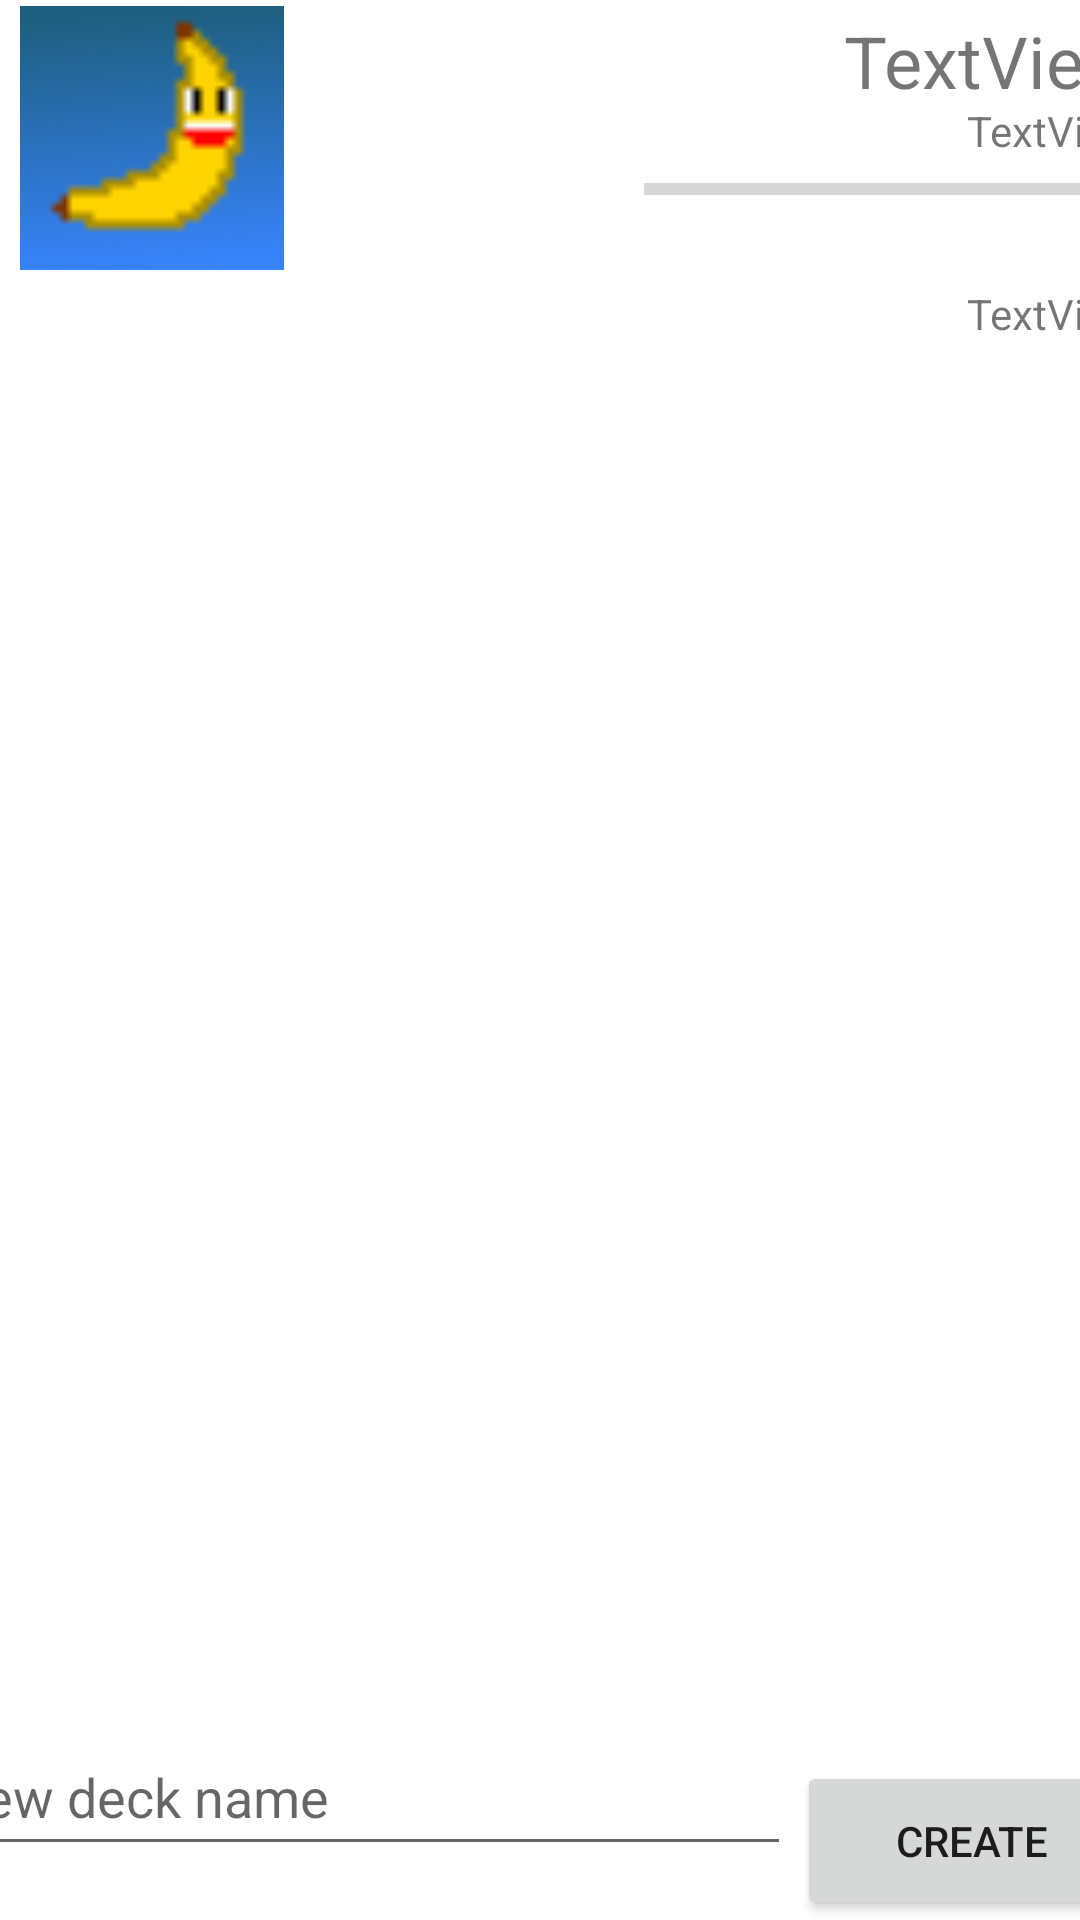

Icons on this 1080*1920 Android screen, each with the point to tap as (x,y):
banana: (152,138)
